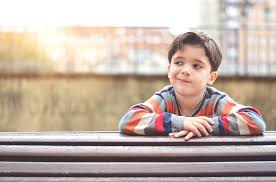person: (155, 31, 230, 118)
